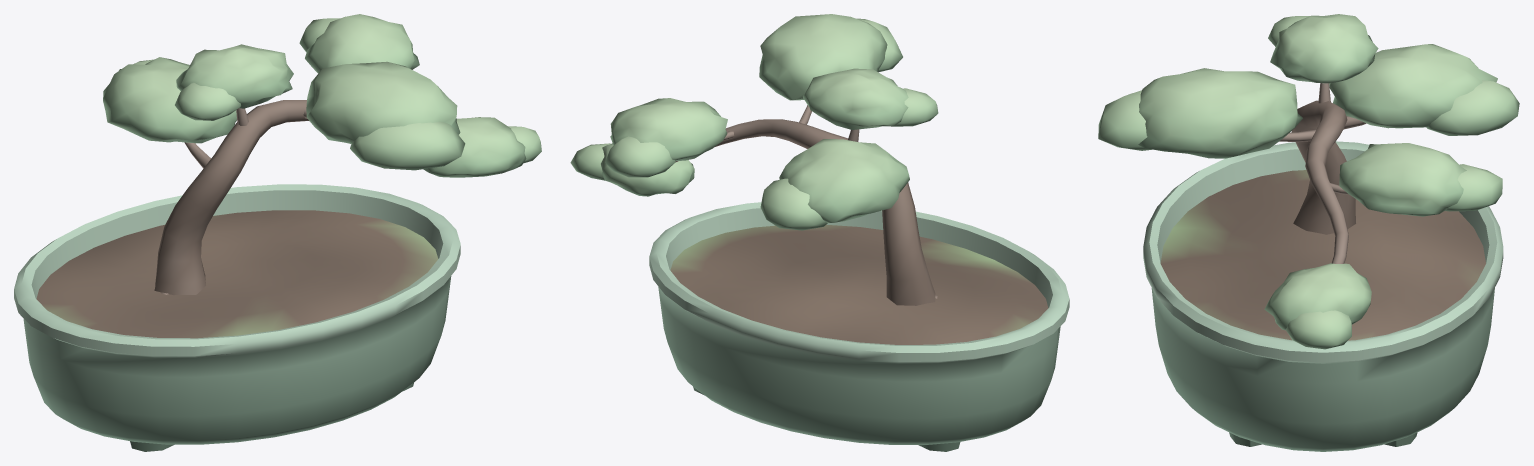
File: bonsai_stage2.glb
The picture shows the model from 3 angles, left to right: view 1: azimuth 30°, elevation 25°; view 2: azimuth 150°, elevation 25°; view 3: azimuth 270°, elevation 25°; orthographic projection. The views are drawn at different scales.
Parts seen in each view (by area): view 1: bonsai_stage2; view 2: bonsai_stage2; view 3: bonsai_stage2.
Boxes of the visible parts, x1=… form: bonsai_stage2: x1=14, y1=14, x2=541, y2=451; bonsai_stage2: x1=570, y1=14, x2=1069, y2=451; bonsai_stage2: x1=1098, y1=14, x2=1519, y2=451.
Bounding box in the file's own units: 0.4513 × 0.2878 × 0.3102.
